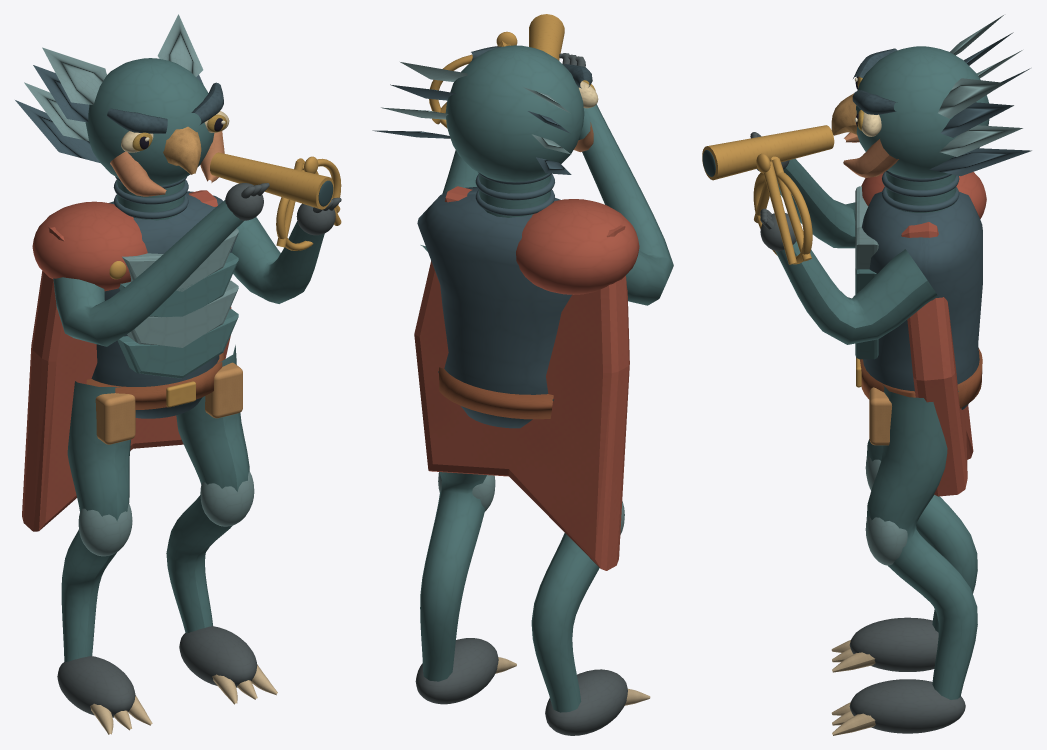
The model's file is mica.glb.
3 renders of one model, left to right at view 1: azimuth 30°, elevation 25°; view 2: azimuth 150°, elevation 25°; view 3: azimuth 270°, elevation 25°, orthographic. The views are drawn at different scales.
Parts seen in each view (by area): view 1: Leg (×2), Surveyor arm (×2), Travel cape, Chest lamella (×4), Cranium, Shoulder mantle, Blade (×5), Boot (×2), Segmented cuirass, Kneecap (×2), Belt pouch (×2), Sight telescope (+9 smaller); view 2: Travel cape, Segmented cuirass, Leg (×2), Cranium, Shoulder mantle, Surveyor arm (×2), Boot (×2), Utility belt, Scaled neck, Neck scales (×2), Sight telescope, Blade (+2 smaller); view 3: Leg (×2), Segmented cuirass, Surveyor arm (×2), Cranium, Boot (×2), Travel cape, Blade (×4), Sight telescope, Kneecap, Scaled neck, Neck scales (×2), Utility belt (+11 smaller).
Part boxes in pixels (box(x1,y1,x2,y2)): Leg (×2): box(61, 345, 249, 662); Surveyor arm (×2): box(53, 200, 324, 346); Travel cape: box(22, 190, 231, 531); Chest lamella (×4): box(117, 228, 238, 378); Cranium: box(85, 58, 214, 185); Shoulder mantle: box(32, 201, 147, 291); Blade (×5): box(15, 14, 203, 162); Boot (×2): box(57, 626, 257, 717); Segmented cuirass: box(91, 191, 238, 418); Kneecap (×2): box(78, 471, 254, 556); Belt pouch (×2): box(95, 362, 242, 444); Sight telescope: box(210, 152, 333, 209); Travel cape: box(414, 186, 629, 570); Segmented cuirass: box(417, 187, 571, 428); Leg (×2): box(420, 371, 599, 712); Cranium: box(445, 45, 584, 182); Shoulder mantle: box(516, 199, 639, 294); Surveyor arm (×2): box(420, 104, 673, 305); Boot (×2): box(415, 638, 627, 735); Utility belt: box(439, 367, 553, 419); Scaled neck: box(478, 174, 551, 217); Neck scales (×2): box(475, 174, 554, 215); Sight telescope: box(529, 14, 564, 60); Blade: box(400, 62, 467, 81); Leg (×2): box(866, 384, 977, 699); Segmented cuirass: box(862, 191, 982, 409); Surveyor arm (×2): box(775, 158, 937, 344); Cranium: box(856, 46, 989, 178); Boot (×2): box(849, 617, 965, 733); Travel cape: box(901, 222, 973, 496); Blade (×4): box(929, 78, 1031, 176); Sight telescope: box(702, 125, 834, 180); Kneecap: box(865, 516, 907, 565); Scaled neck: box(886, 172, 956, 212); Neck scales (×2): box(882, 171, 959, 212); Utility belt: box(860, 348, 982, 408).
Bounding box in the file's own units: 1.21 × 2.9 × 1.34.
19 materials, 18 textured.
